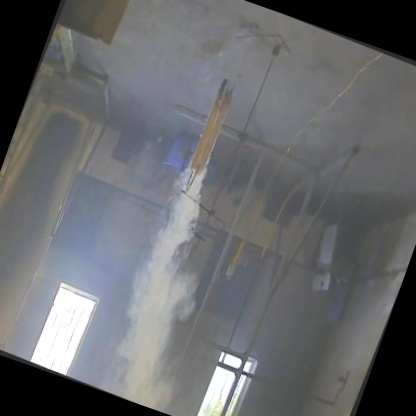smoke: (71, 88, 277, 413)
